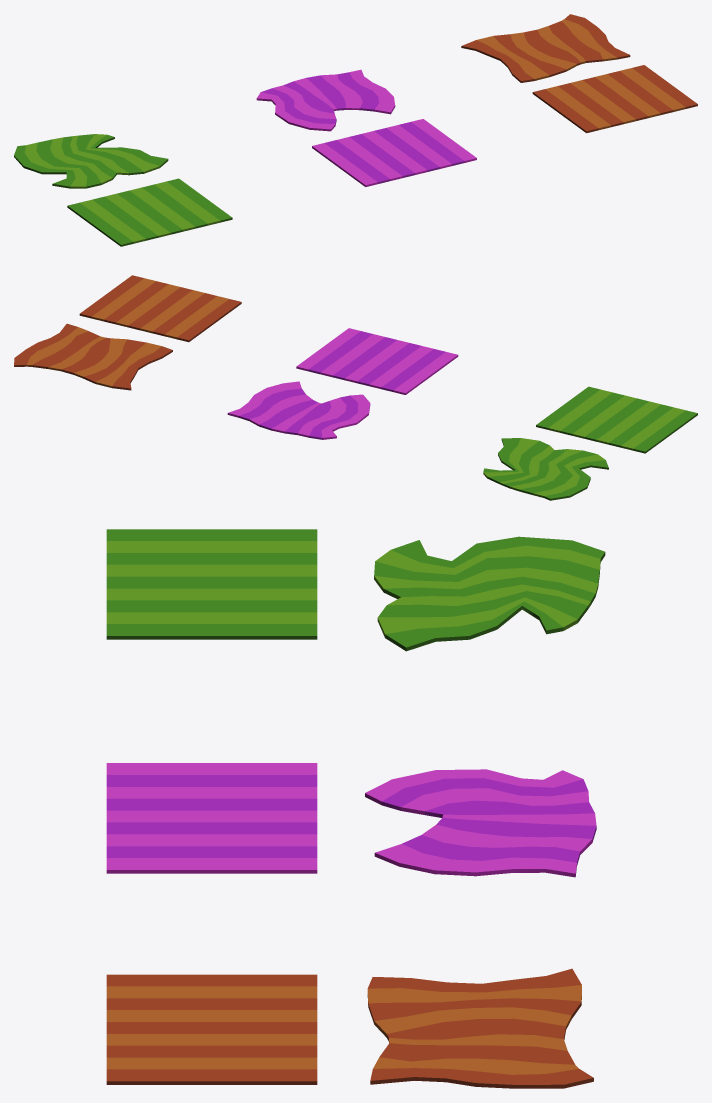
File: Carpet.fbx
3 views of the same model, one above another, from view 1: azimuth 30°, elevation 25°; view 2: azimuth 150°, elevation 25°; view 3: azimuth 270°, elevation 25° (orthographic). The views are drawn at different scales.
Parts seen in each view (by area): view 1: CarpetAvailableLvl1, CarpetAvailableLvl3, CarpetAvailableLvl2, CarpetUsedLvl1, CarpetUsedLvl3, CarpetUsedLvl2; view 2: CarpetAvailableLvl2, CarpetAvailableLvl1, CarpetAvailableLvl3, CarpetUsedLvl1, CarpetUsedLvl3, CarpetUsedLvl2; view 3: CarpetAvailableLvl2, CarpetAvailableLvl3, CarpetAvailableLvl1, CarpetUsedLvl1, CarpetUsedLvl2, CarpetUsedLvl3.
Boxes of the visible parts, x1=… form: CarpetAvailableLvl1: x1=532, y1=65, x2=697, y2=133; CarpetAvailableLvl3: x1=67, y1=178, x2=232, y2=246; CarpetAvailableLvl2: x1=312, y1=119, x2=476, y2=186; CarpetUsedLvl1: x1=461, y1=14, x2=630, y2=82; CarpetUsedLvl3: x1=14, y1=134, x2=168, y2=188; CarpetUsedLvl2: x1=256, y1=69, x2=395, y2=131; CarpetAvailableLvl2: x1=296, y1=328, x2=458, y2=394; CarpetAvailableLvl1: x1=79, y1=275, x2=241, y2=342; CarpetAvailableLvl3: x1=536, y1=386, x2=697, y2=453; CarpetUsedLvl1: x1=14, y1=323, x2=172, y2=390; CarpetUsedLvl3: x1=483, y1=438, x2=608, y2=500; CarpetUsedLvl2: x1=227, y1=381, x2=370, y2=439; CarpetAvailableLvl2: x1=106, y1=763, x2=317, y2=873; CarpetAvailableLvl3: x1=106, y1=529, x2=317, y2=639; CarpetAvailableLvl1: x1=106, y1=974, x2=317, y2=1084; CarpetUsedLvl1: x1=367, y1=968, x2=593, y2=1088; CarpetUsedLvl2: x1=365, y1=769, x2=596, y2=877; CarpetUsedLvl3: x1=374, y1=536, x2=605, y2=651.
Bounding box in the file's own units: 1562 × 5 × 592.
